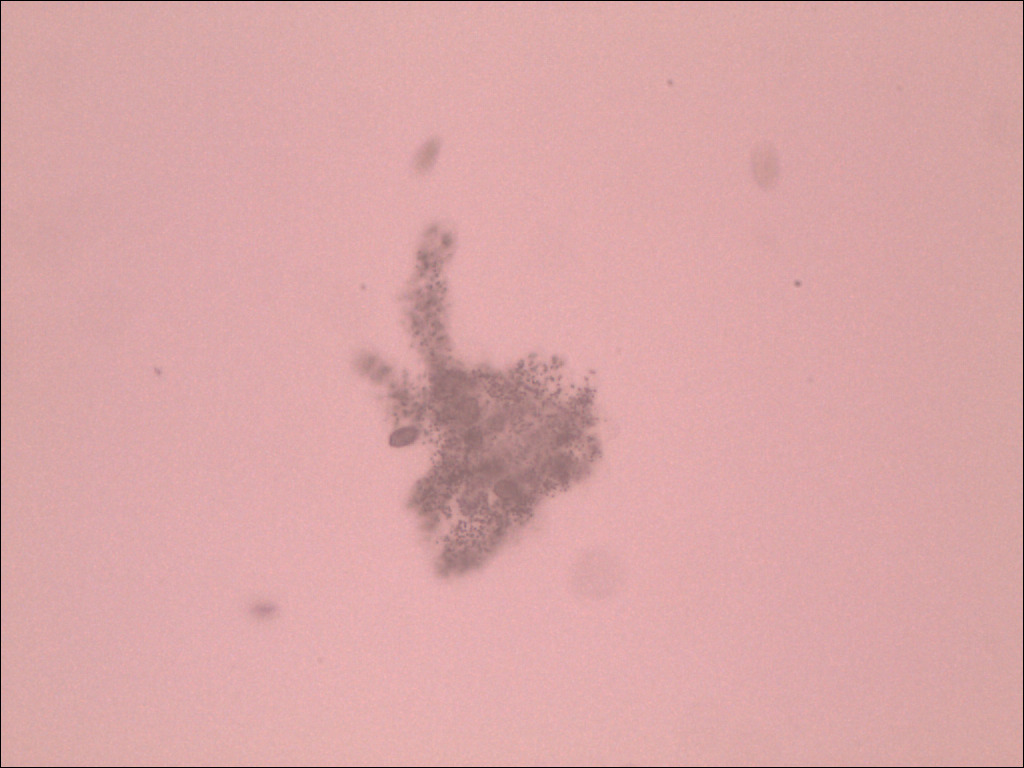amoeba: (344, 213, 627, 590)
